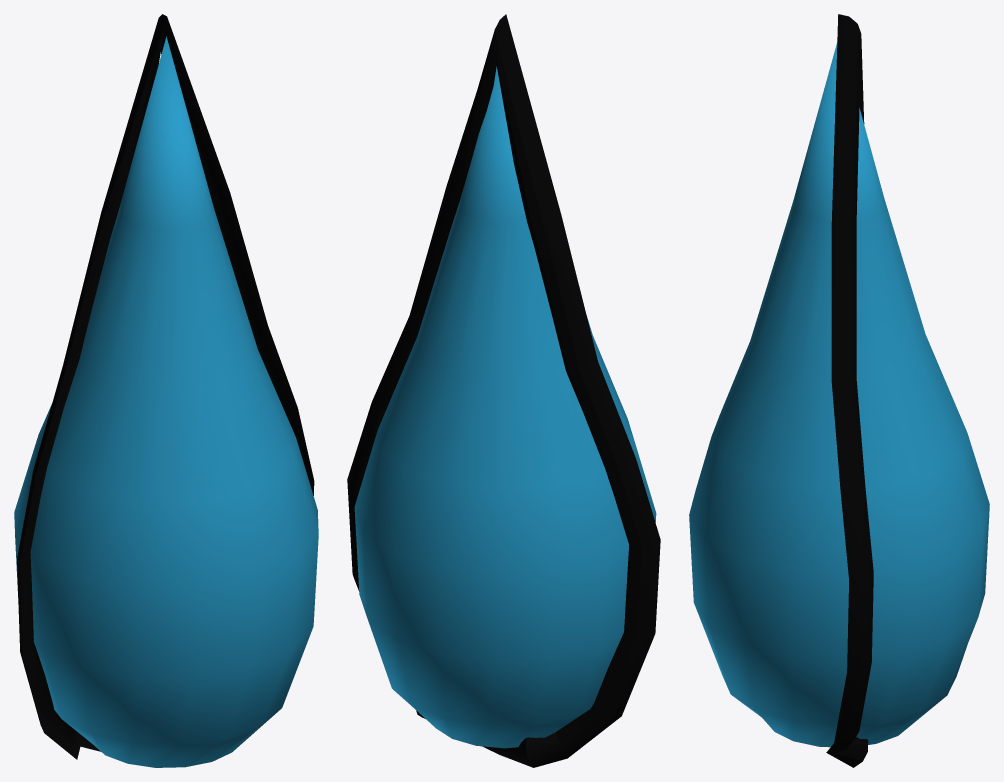
The model's file is Blue.fbx.
3 renders of one model, left to right at view 1: azimuth 30°, elevation 25°; view 2: azimuth 150°, elevation 25°; view 3: azimuth 270°, elevation 25°, orthographic. The views are drawn at different scales.
Parts seen in each view (by area): view 1: LineArt.005; view 2: LineArt.005; view 3: LineArt.005.
Part boxes in pixels (<box>): LineArt.005: <box>14,14,318,767</box>; LineArt.005: <box>347,14,660,767</box>; LineArt.005: <box>689,14,989,767</box>.
Bounding box in the file's own units: 9.68 × 22.87 × 8.46.
